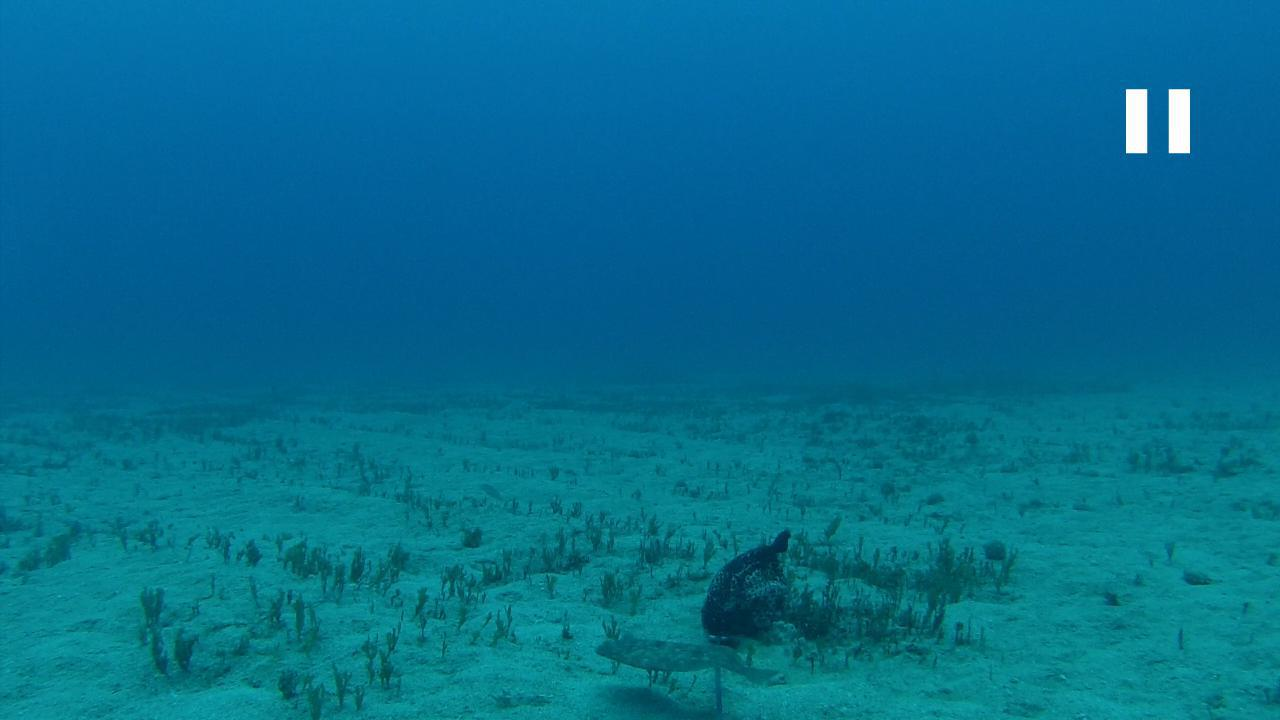bothus: (588, 628, 780, 684)
